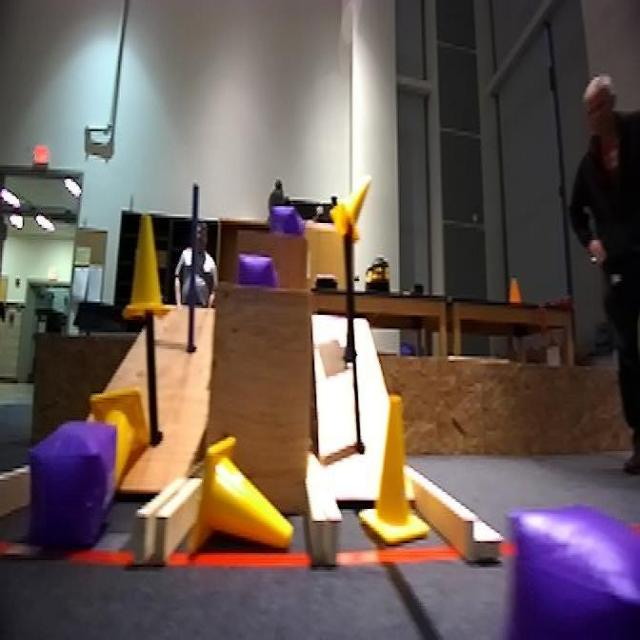frc_cone: (183, 436, 297, 560), (358, 393, 430, 557), (92, 385, 150, 502), (123, 213, 172, 327), (328, 163, 374, 247)
frc_cube: (505, 505, 640, 640), (23, 417, 115, 552), (266, 197, 308, 252), (238, 250, 278, 290)
